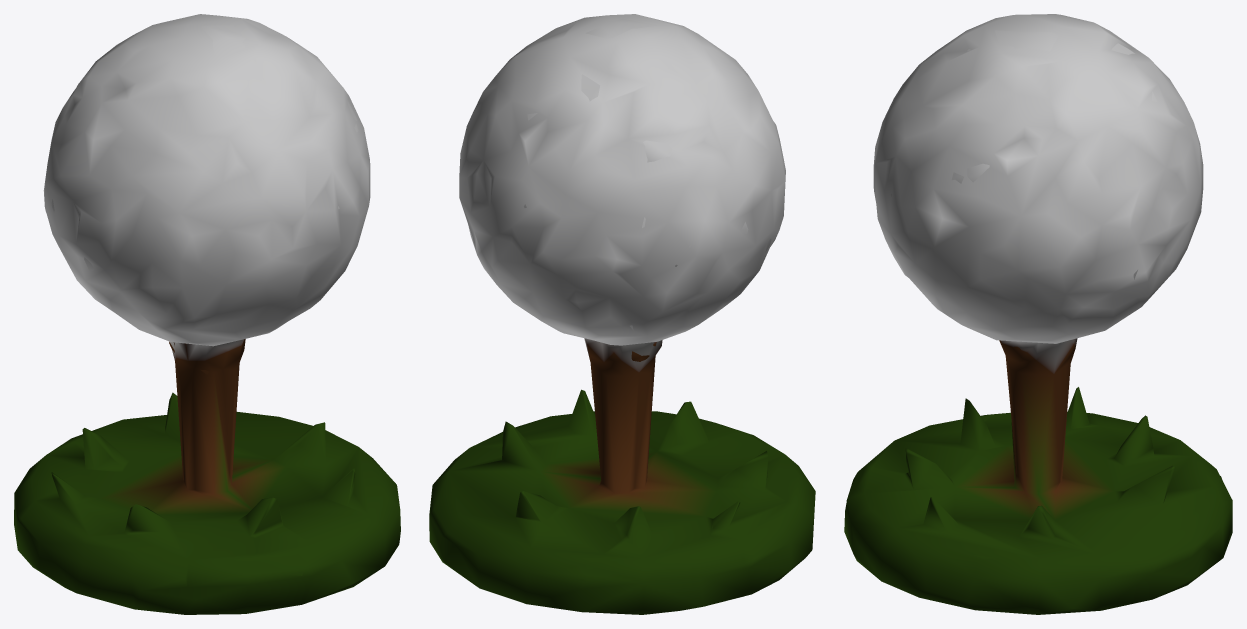
File: gen3d-golf-ball-lod1.glb
3 renders of one model, left to right at view 1: azimuth 30°, elevation 25°; view 2: azimuth 150°, elevation 25°; view 3: azimuth 270°, elevation 25°, orthographic.
Parts seen in each view (by area): view 1: part_0; view 2: part_0; view 3: part_0.
Boxes of the visible parts, bbox=[...] form: part_0: bbox=[14, 14, 400, 614]; part_0: bbox=[429, 14, 815, 614]; part_0: bbox=[844, 14, 1232, 614].
Bounding box in the file's own units: 0.6962 × 0.9963 × 0.6962.
